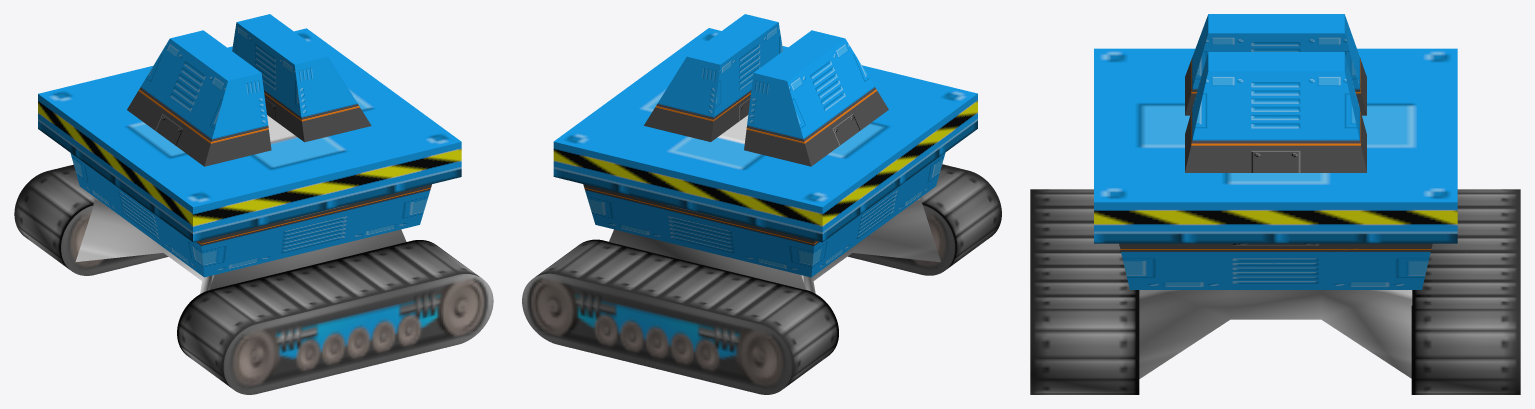
File: portico1.obj
3 views of the same model, side by side, from view 1: azimuth 30°, elevation 25°; view 2: azimuth 150°, elevation 25°; view 3: azimuth 270°, elevation 25° (orthographic). The views are drawn at different scales.
Parts seen in each view (by area): view 1: ColobotMesh_1.001_ColobotMesh_.001, ColobotMesh_1_ColobotMesh_, ColobotMesh_1.004_ColobotMesh_.004, ColobotMesh_1.002_ColobotMesh_.002, ColobotMesh_1.003_ColobotMesh_.003, ColobotMesh_1.006_ColobotMesh_.006, ColobotMesh_1.005_ColobotMesh_.005; view 2: ColobotMesh_1.001_ColobotMesh_.001, ColobotMesh_1.006_ColobotMesh_.006, ColobotMesh_1.004_ColobotMesh_.004, ColobotMesh_1.002_ColobotMesh_.002, ColobotMesh_1.003_ColobotMesh_.003, ColobotMesh_1_ColobotMesh_, ColobotMesh_1.005_ColobotMesh_.005; view 3: ColobotMesh_1.001_ColobotMesh_.001, ColobotMesh_1.003_ColobotMesh_.003, ColobotMesh_1_ColobotMesh_, ColobotMesh_1.006_ColobotMesh_.006, ColobotMesh_1.002_ColobotMesh_.002, ColobotMesh_1.005_ColobotMesh_.005, ColobotMesh_1.004_ColobotMesh_.004.
Part boxes in pixels (x1,y1,x2,y2): ColobotMesh_1.001_ColobotMesh_.001: [38, 28, 461, 242]; ColobotMesh_1_ColobotMesh_: [177, 240, 493, 394]; ColobotMesh_1.004_ColobotMesh_.004: [127, 30, 271, 166]; ColobotMesh_1.002_ColobotMesh_.002: [70, 153, 431, 277]; ColobotMesh_1.003_ColobotMesh_.003: [232, 14, 371, 142]; ColobotMesh_1.006_ColobotMesh_.006: [14, 164, 168, 275]; ColobotMesh_1.005_ColobotMesh_.005: [75, 198, 406, 293]; ColobotMesh_1.001_ColobotMesh_.001: [553, 28, 977, 242]; ColobotMesh_1.006_ColobotMesh_.006: [522, 239, 838, 394]; ColobotMesh_1.004_ColobotMesh_.004: [744, 30, 888, 166]; ColobotMesh_1.002_ColobotMesh_.002: [583, 153, 945, 277]; ColobotMesh_1.003_ColobotMesh_.003: [644, 14, 783, 141]; ColobotMesh_1_ColobotMesh_: [848, 164, 1001, 275]; ColobotMesh_1.005_ColobotMesh_.005: [609, 198, 940, 293]; ColobotMesh_1.001_ColobotMesh_.001: [1094, 48, 1457, 243]; ColobotMesh_1.003_ColobotMesh_.003: [1185, 52, 1366, 172]; ColobotMesh_1_ColobotMesh_: [1030, 189, 1139, 394]; ColobotMesh_1.006_ColobotMesh_.006: [1411, 189, 1520, 394]; ColobotMesh_1.002_ColobotMesh_.002: [1119, 243, 1432, 289]; ColobotMesh_1.005_ColobotMesh_.005: [1139, 290, 1412, 378]; ColobotMesh_1.004_ColobotMesh_.004: [1185, 14, 1366, 115].
Bounding box in the file's own units: 81.38 × 70.02 × 108.
